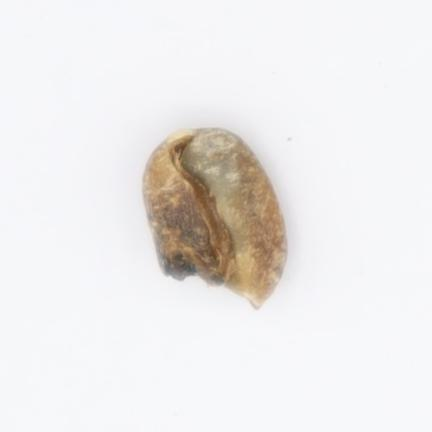partial-black: (143, 129, 286, 306)
